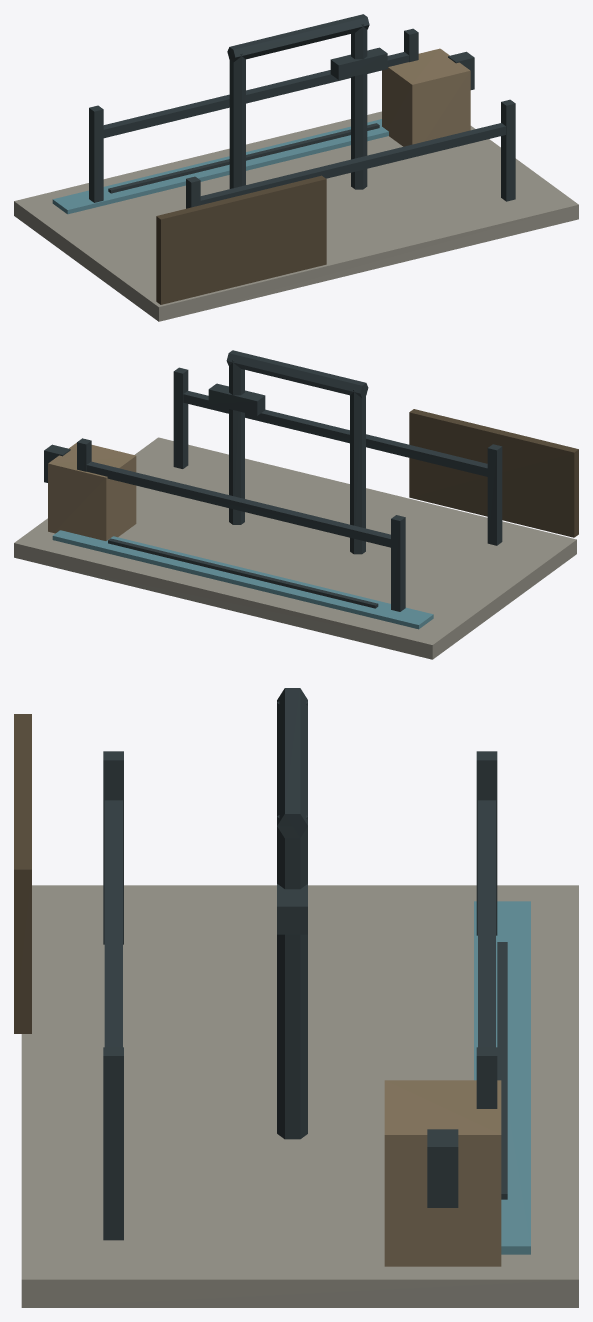
The model's file is Animal-Wash-Station.glb.
3 views of the same model, one above another, from view 1: azimuth 30°, elevation 25°; view 2: azimuth 150°, elevation 25°; view 3: azimuth 270°, elevation 25° (orthographic). The views are drawn at different scales.
Parts seen in each view (by area): view 1: wind-pump-static-animal-wash-station-non-slip-pad, wind-pump-static-animal-wash-station-dark-rail, wind-pump-static-animal-wash-station-gate, wind-pump-static-animal-wash-station-pump-cabinet, wind-pump-static-animal-wash-station-drainage-blue-gray; view 2: wind-pump-static-animal-wash-station-non-slip-pad, wind-pump-static-animal-wash-station-dark-rail, wind-pump-static-animal-wash-station-gate, wind-pump-static-animal-wash-station-pump-cabinet, wind-pump-static-animal-wash-station-drainage-blue-gray; view 3: wind-pump-static-animal-wash-station-non-slip-pad, wind-pump-static-animal-wash-station-dark-rail, wind-pump-static-animal-wash-station-pump-cabinet, wind-pump-static-animal-wash-station-drainage-blue-gray, wind-pump-static-animal-wash-station-gate.
Part boxes in pixels (x1,y1,x2,y2): wind-pump-static-animal-wash-station-non-slip-pad: (14,111,578,321); wind-pump-static-animal-wash-station-dark-rail: (89,14,515,208); wind-pump-static-animal-wash-station-gate: (156,175,326,304); wind-pump-static-animal-wash-station-pump-cabinet: (382,48,470,146); wind-pump-static-animal-wash-station-drainage-blue-gray: (52,119,388,214); wind-pump-static-animal-wash-station-non-slip-pad: (14,437,576,659); wind-pump-static-animal-wash-station-dark-rail: (44,350,502,611); wind-pump-static-animal-wash-station-gate: (409,409,578,537); wind-pump-static-animal-wash-station-pump-cabinet: (48,442,136,540); wind-pump-static-animal-wash-station-drainage-blue-gray: (52,530,433,629); wind-pump-static-animal-wash-station-non-slip-pad: (21,885,578,1307); wind-pump-static-animal-wash-station-dark-rail: (103,688,507,1240); wind-pump-static-animal-wash-station-pump-cabinet: (384,1080,501,1266); wind-pump-static-animal-wash-station-drainage-blue-gray: (474,901,530,1254); wind-pump-static-animal-wash-station-gate: (14,714,31,1033).
Size of the model in its own units: 3.61 by 1.53 by 2.18.
